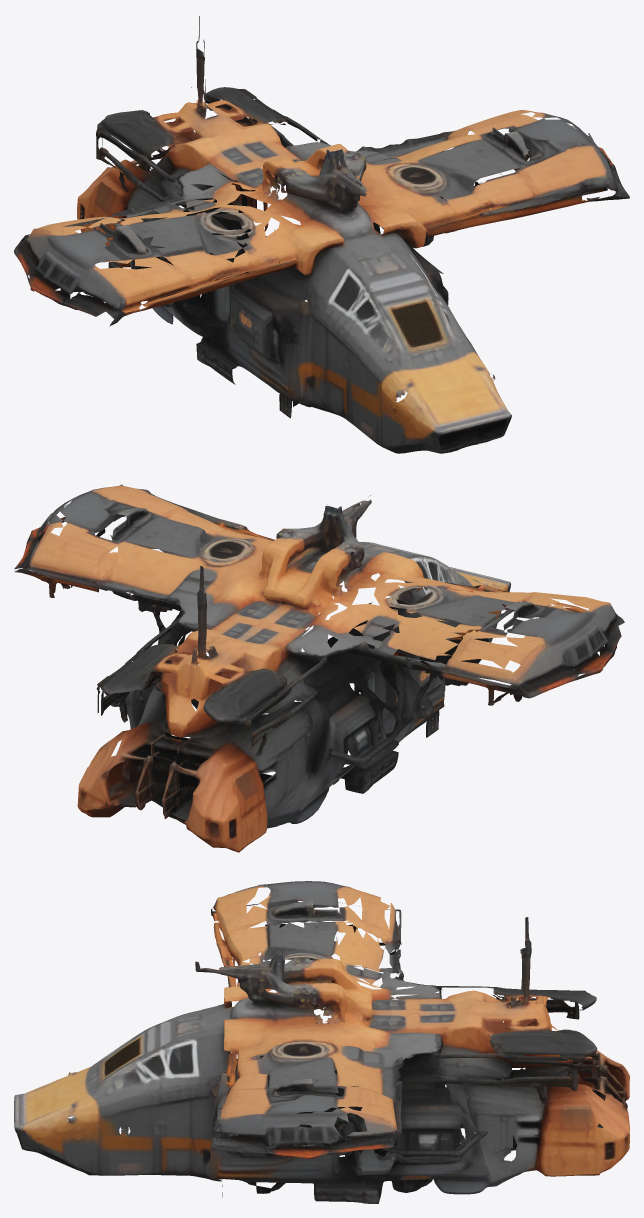
Rendered from prop_dropship.glb.
3 renders of one model, top to bottom at view 1: azimuth 30°, elevation 25°; view 2: azimuth 150°, elevation 25°; view 3: azimuth 270°, elevation 25°, orthographic. The views are drawn at different scales.
Parts seen in each view (by area): view 1: geometry_0.948; view 2: geometry_0.948; view 3: geometry_0.948.
Boxes of the visible parts, x1=… form: geometry_0.948: x1=14, y1=16, x2=629, y2=453; geometry_0.948: x1=14, y1=484, x2=624, y2=852; geometry_0.948: x1=14, y1=881, x2=629, y2=1203.
Bounding box in the file's own units: 1 × 0.4718 × 0.9997.
Materials: 1 (1 with a texture image).
